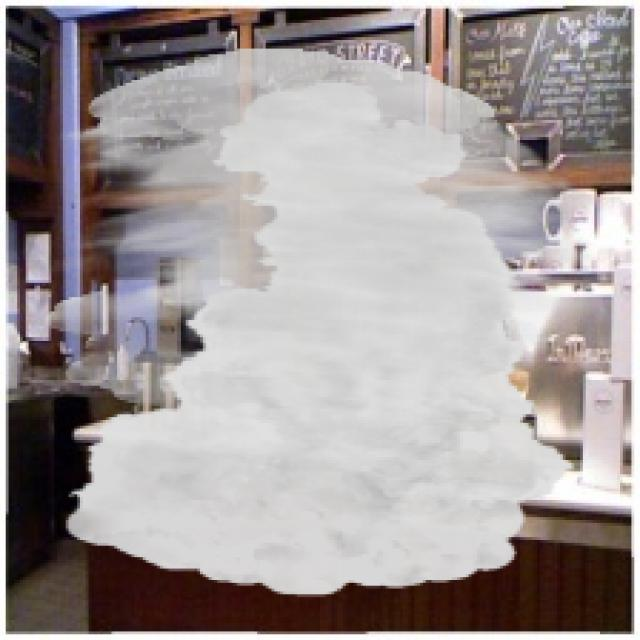smoke: (46, 49, 597, 597)
